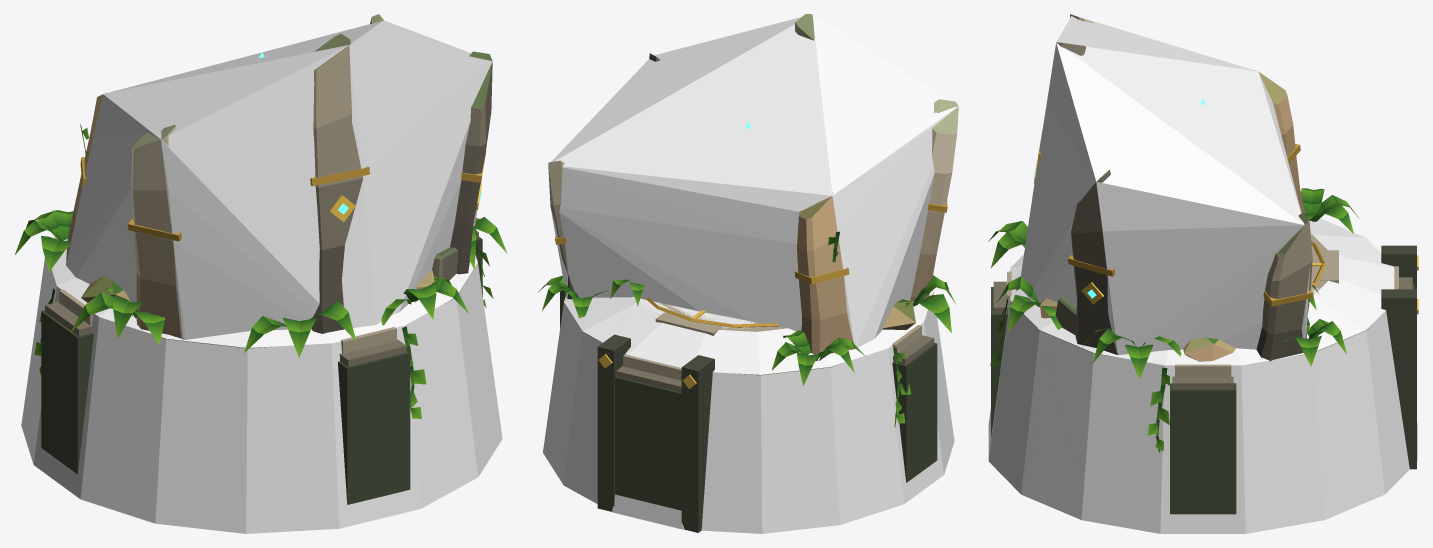
File: ancient_compass_monolith_ring.glb
3 views of the same model, side by side, from view 1: azimuth 30°, elevation 25°; view 2: azimuth 150°, elevation 25°; view 3: azimuth 270°, elevation 25° (orthographic). The views are drawn at different scales.
Visible parts, largest first — view 1: col_ring_stones, col_ring_dais, AncientCompassMonolithRing; view 2: col_ring_stones, col_ring_dais, AncientCompassMonolithRing; view 3: col_ring_dais, col_ring_stones, AncientCompassMonolithRing.
Part boxes in pixels (x1,y1,x2,y2): col_ring_stones: (66,20,492,339); col_ring_dais: (21,237,502,533); AncientCompassMonolithRing: (15,14,507,504); col_ring_stones: (551,14,957,347); col_ring_dais: (543,290,954,533); AncientCompassMonolithRing: (538,14,958,532); col_ring_dais: (988,218,1417,533); col_ring_stones: (1021,15,1310,354); AncientCompassMonolithRing: (988,14,1418,514).
Bounding box in the file's own units: 10.41 × 10.59 × 10.2.
